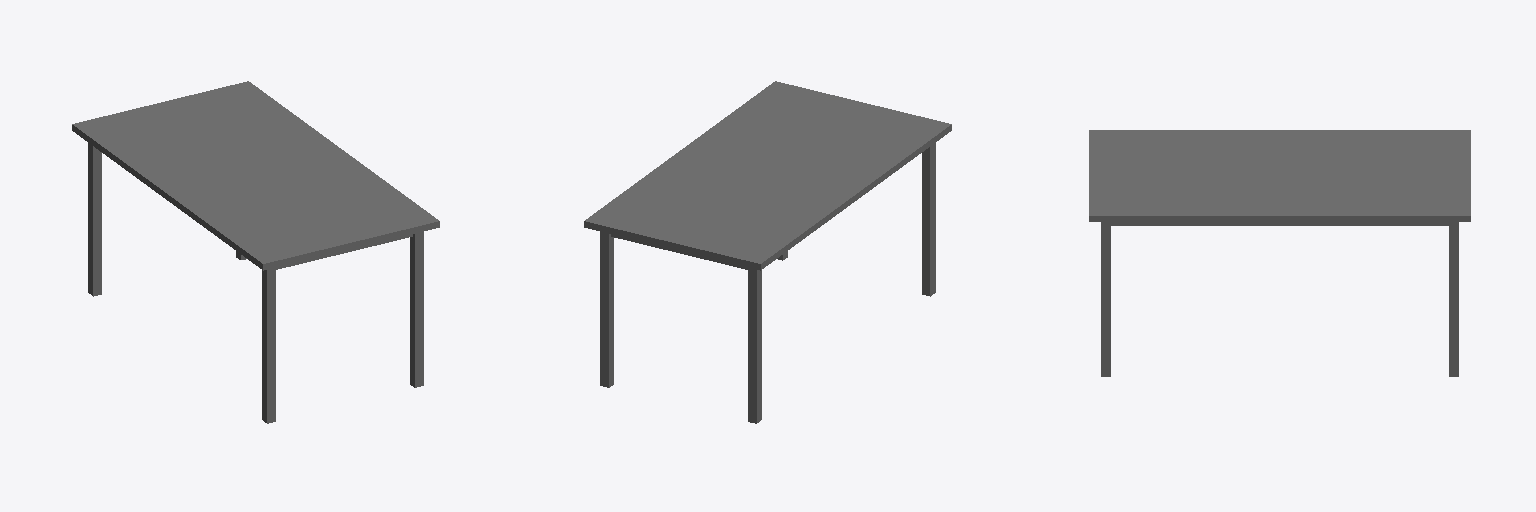
The model's file is table.obj.
3 renders of one model, left to right at view 1: azimuth 30°, elevation 25°; view 2: azimuth 150°, elevation 25°; view 3: azimuth 270°, elevation 25°, orthographic.
Parts seen in each view (by area): view 1: Box001.003, Box004.003, Box005.003, Box002.003; view 2: Box001.003, Box002.003, Box003.003, Box004.003; view 3: Box001.003, Box003.003, Box005.003, Box009.003.
Boxes of the visible parts, <box> form: Box001.003: <box>72,81,439,270</box>; Box004.003: <box>262,268,275,423</box>; Box005.003: <box>410,232,423,387</box>; Box002.003: <box>88,143,101,296</box>; Box001.003: <box>584,81,951,270</box>; Box002.003: <box>748,268,761,423</box>; Box003.003: <box>600,232,613,387</box>; Box004.003: <box>922,143,935,296</box>; Box001.003: <box>1089,130,1470,221</box>; Box003.003: <box>1449,222,1458,376</box>; Box005.003: <box>1101,222,1110,376</box>; Box009.003: <box>1111,222,1448,225</box>.
Bounding box in the file's own units: 80 × 72.13 × 150.